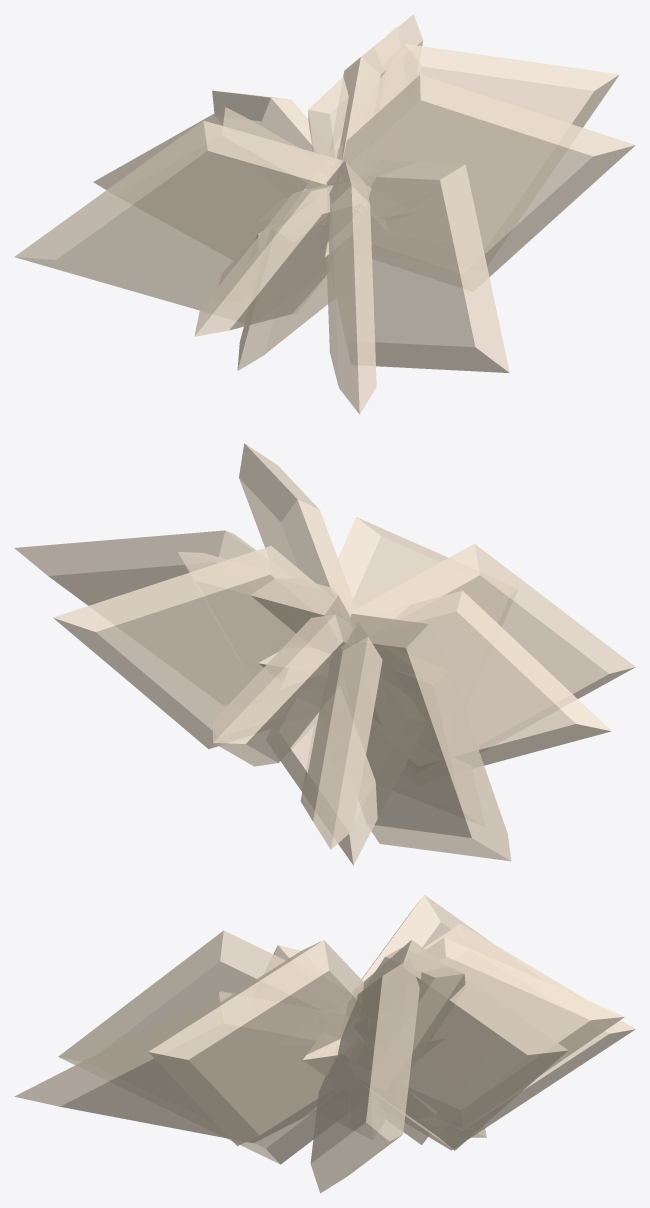
Rendered from s2_crystal_uricacid.glb.
The picture shows the model from 3 angles, top to bottom: view 1: azimuth 30°, elevation 25°; view 2: azimuth 150°, elevation 25°; view 3: azimuth 270°, elevation 25°; orthographic projection. The views are drawn at different scales.
Parts seen in each view (by area): view 1: crystal_uricacid; view 2: crystal_uricacid; view 3: crystal_uricacid.
Part boxes in pixels (x1,y1,x2,y2): crystal_uricacid: (14,14,635,414); crystal_uricacid: (14,443,635,865); crystal_uricacid: (14,894,635,1193).
Size of the model in its own units: 0.0543 by 0.0252 by 0.0521.
